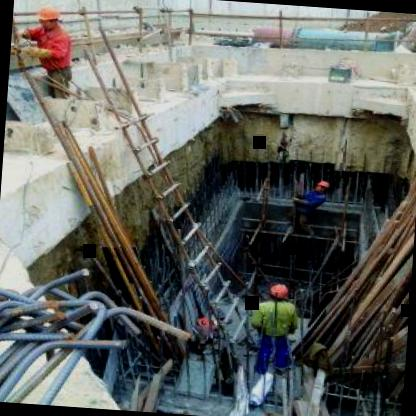helmet: (35, 0, 70, 37), (262, 280, 296, 309), (309, 172, 334, 200)
